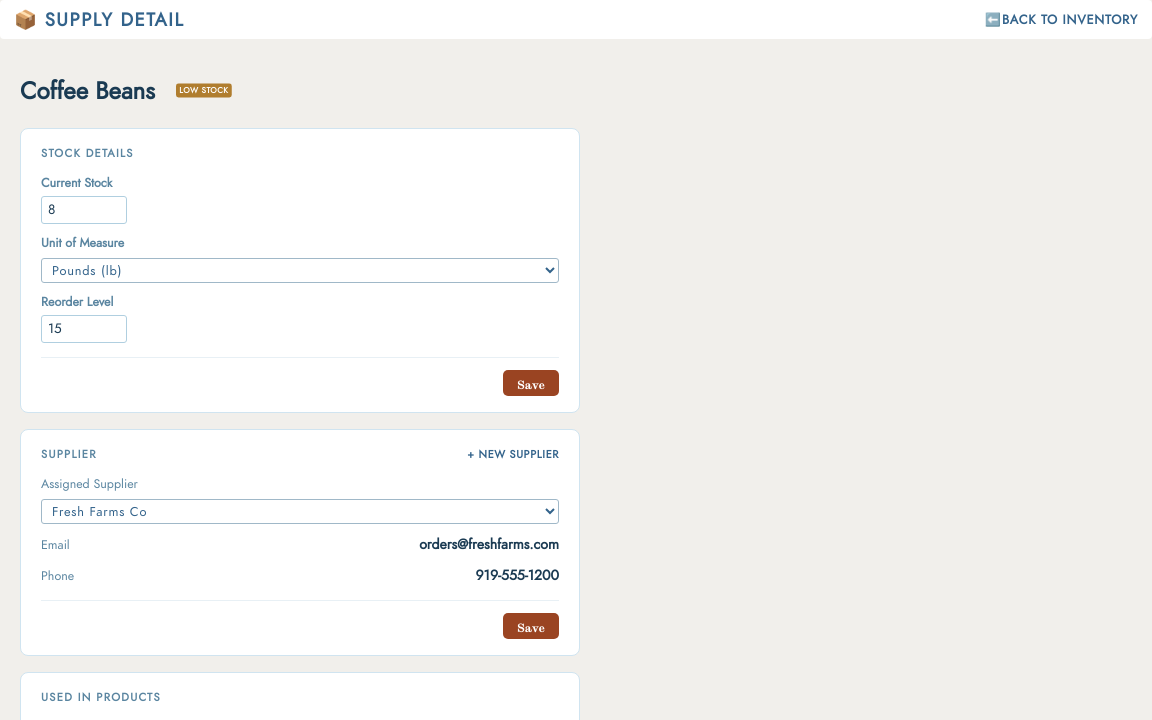
Test: AdminInventoryDetailPage › shows stock save error
This screenshot has width=1152, height=720.
Replace the text in the number field showing "8" below "Current Stock" with "22" at coordinates (84, 210), box [41,196,127,224]
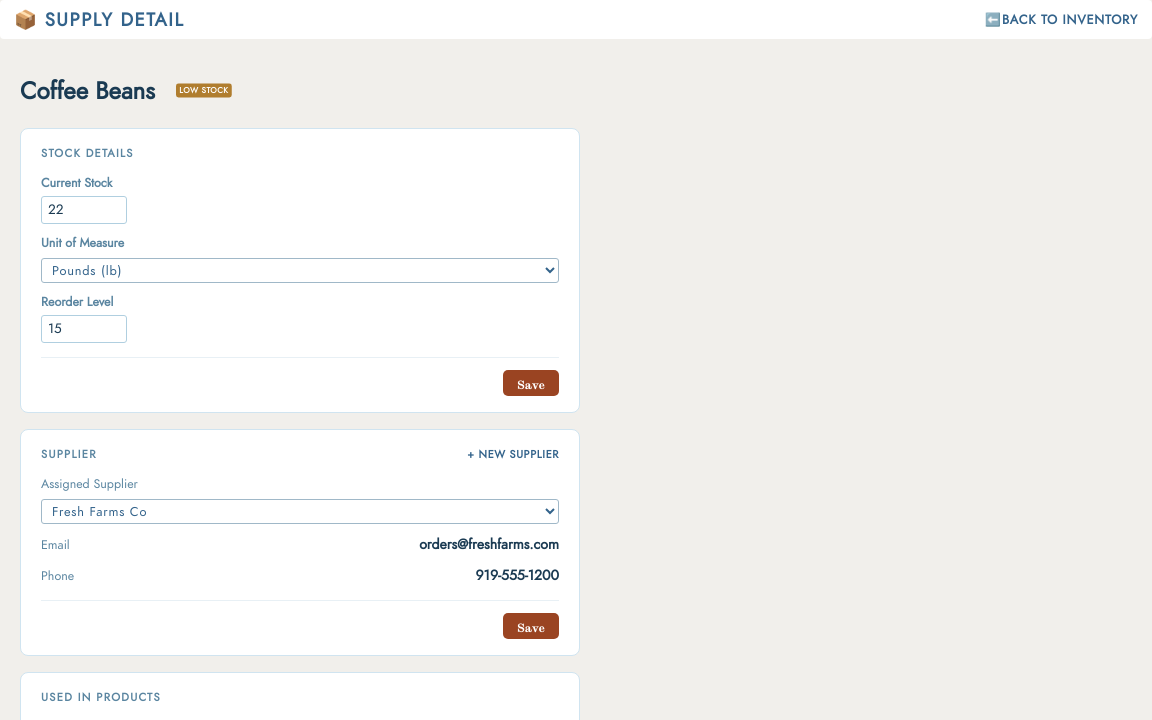
Click the 1st button "Save".
click(531, 383)  # box [503,370,559,396]
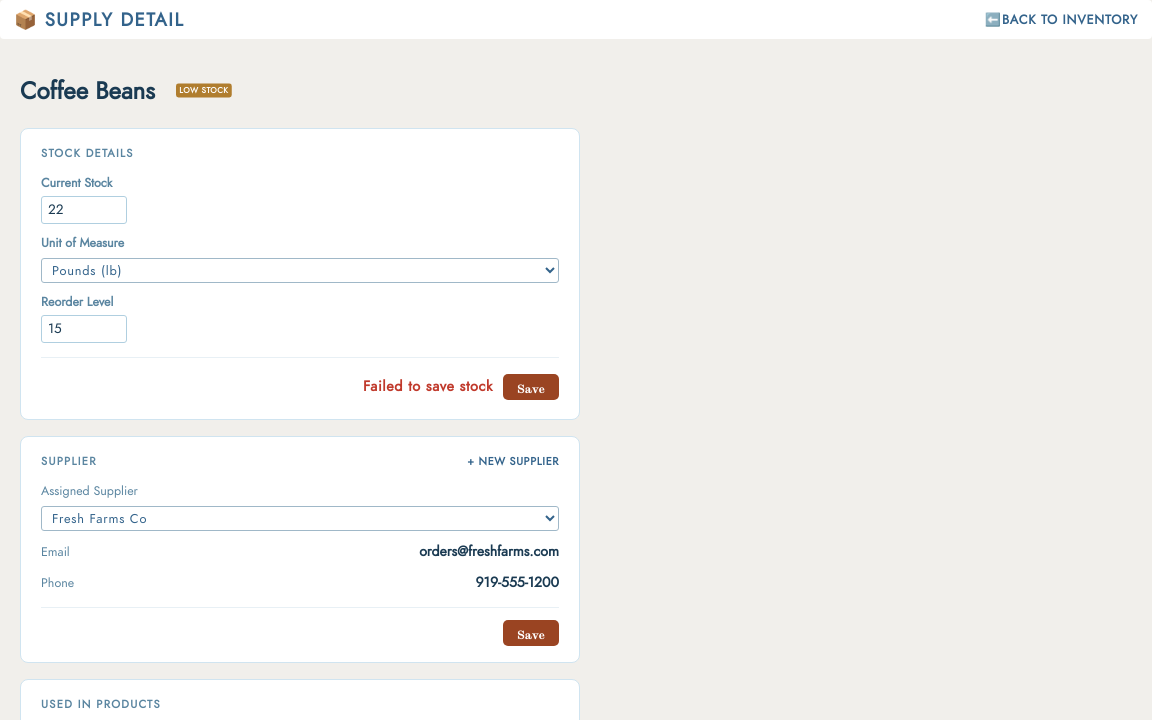
Expected: the text "Failed to save stock" is shown, [363,376,493,397]
